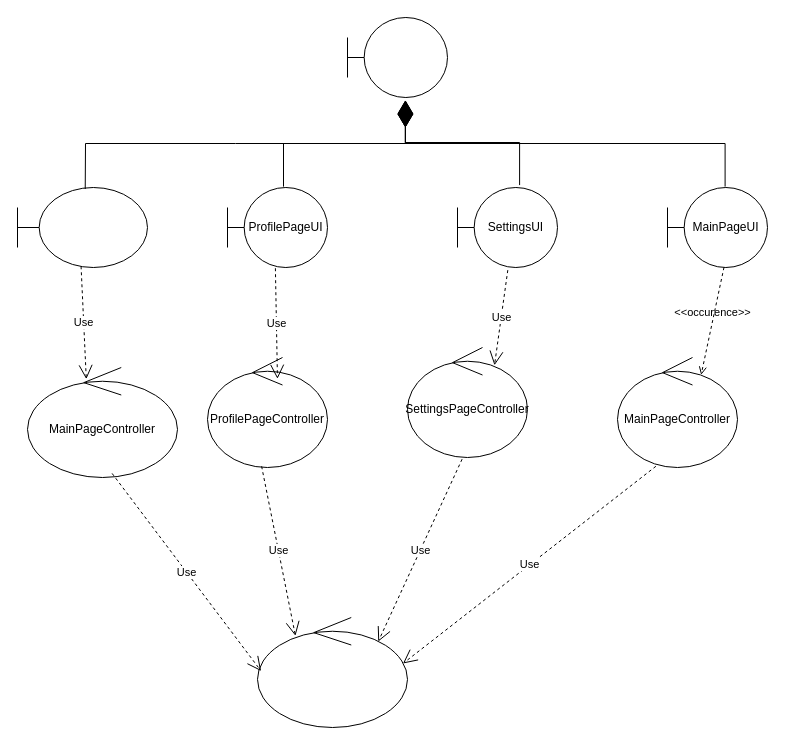
Image size: 785x745. Some labels were removed from this diagram. Here are the shapes that lost their labels. From the top down, the box of each, then its label:
(346, 16, 448, 98): SystemUI
(16, 186, 148, 268): SavedRouteUI
(256, 616, 408, 728): DataBaseController
